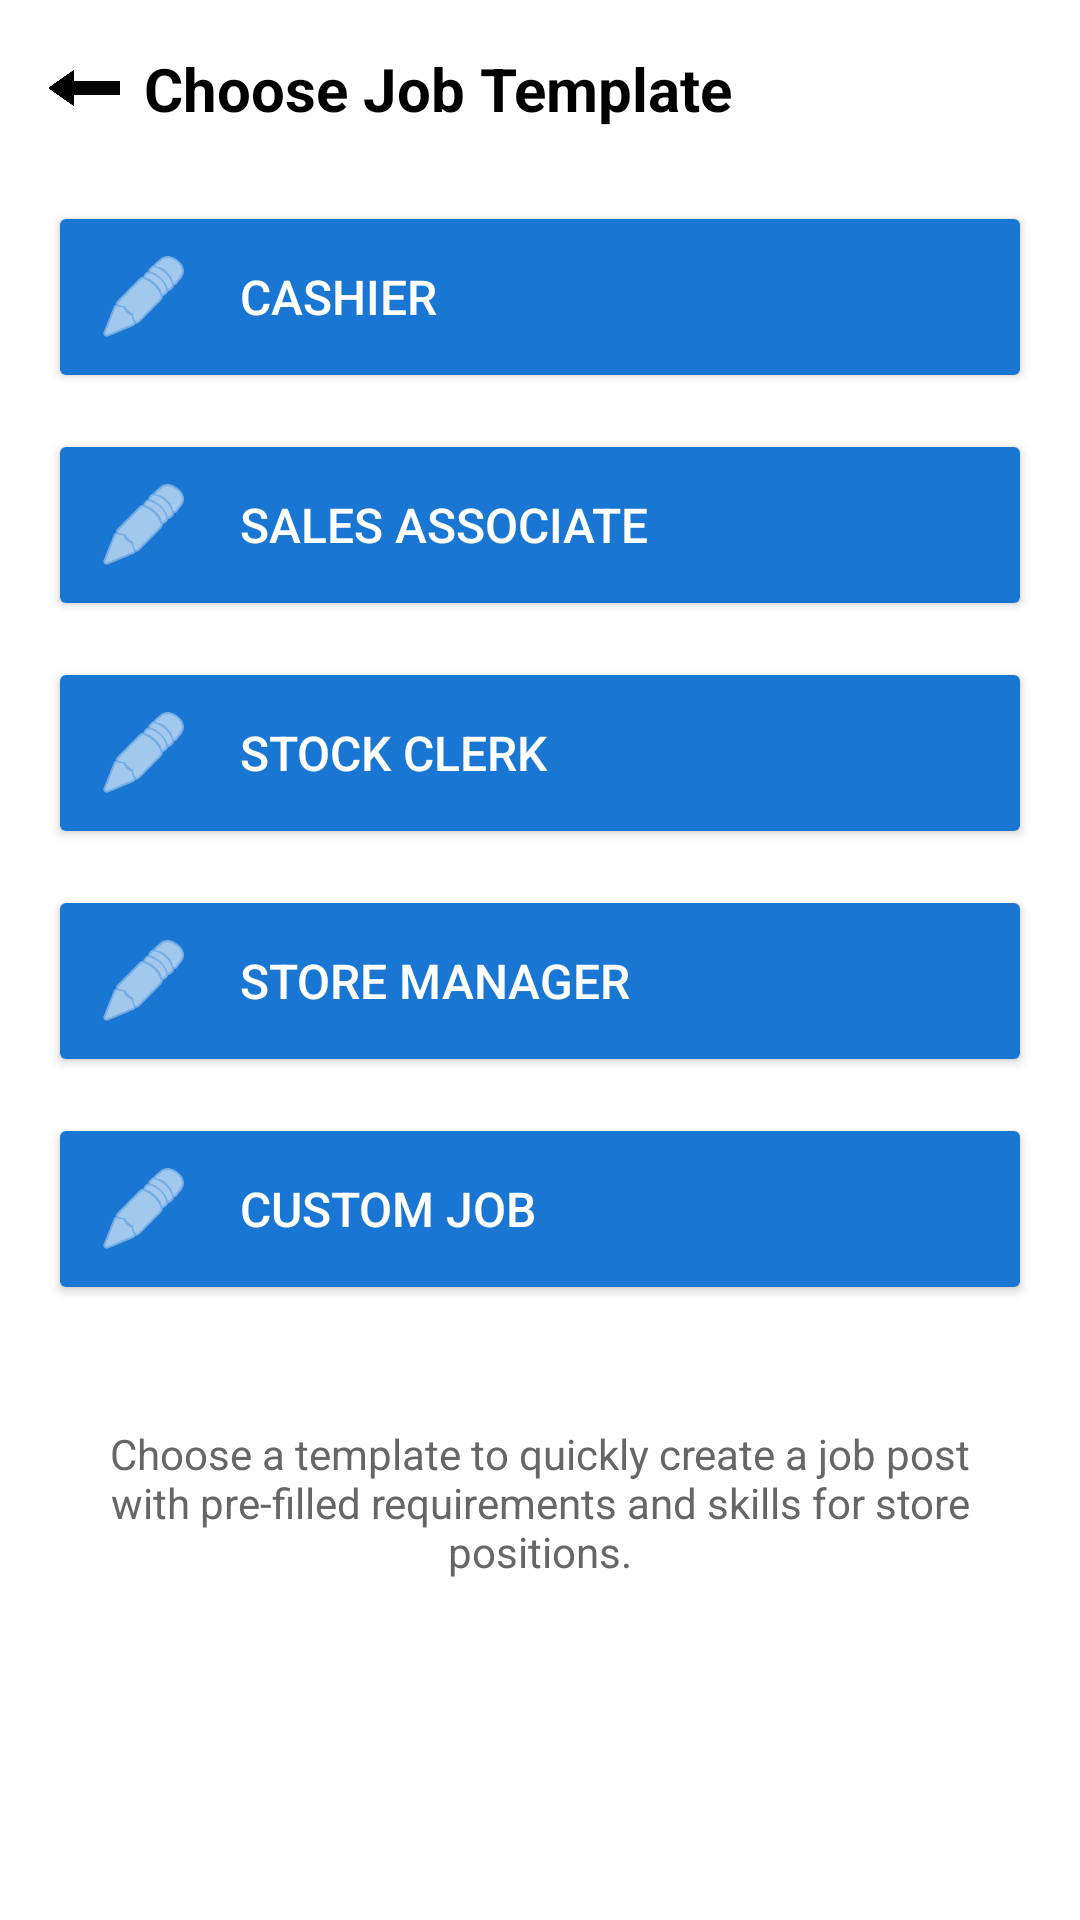

Where icons sit on this 1080w x 1920h app screen, as (x1, y1, x2, y2):
Back: (49, 70, 120, 106)
